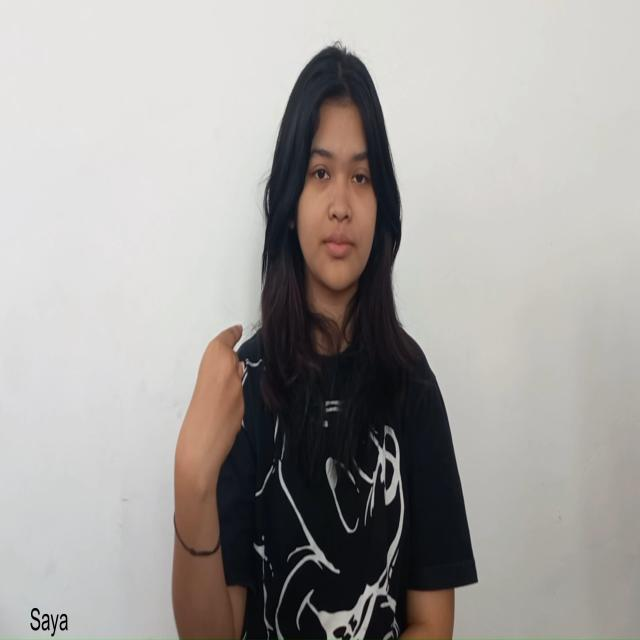Saya -BISINDO-: (169, 317, 249, 502)
